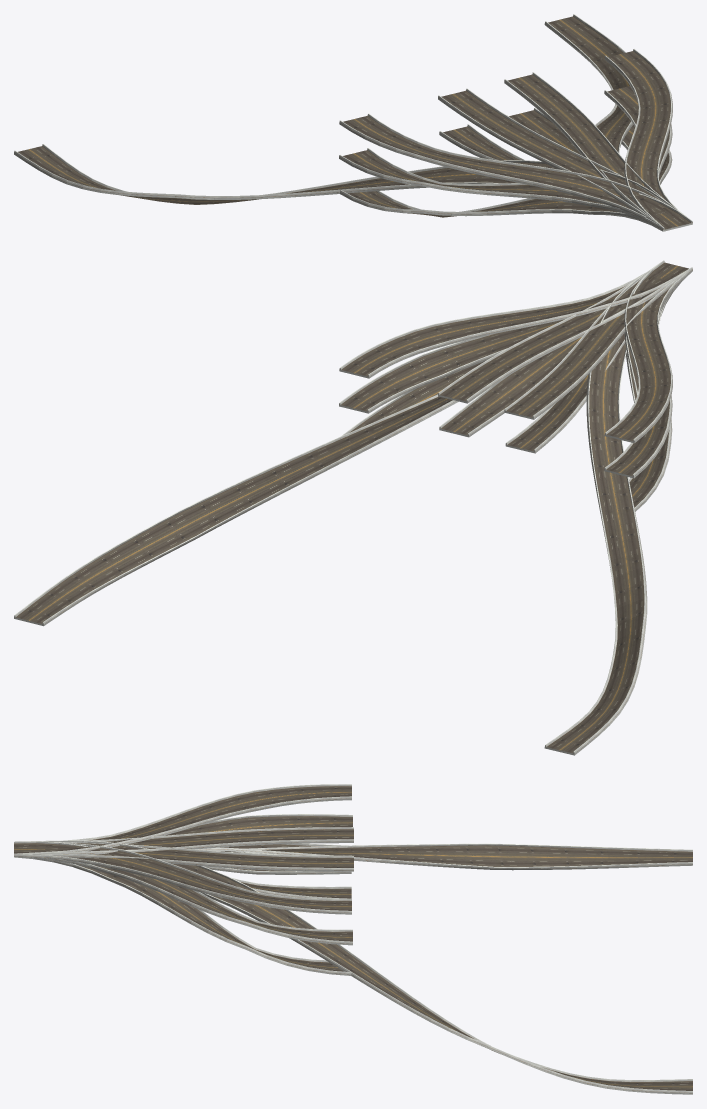
The model's file is trackCurves.fbx.
The picture shows the model from 3 angles, top to bottom: view 1: azimuth 30°, elevation 25°; view 2: azimuth 150°, elevation 25°; view 3: azimuth 270°, elevation 25°; orthographic projection. The views are drawn at different scales.
Visible parts, largest first — view 1: track_Ls30, track_Ls60down40, track_Rs30, track_Ls10, track_Rs10, track_Rs60down40, track_Ls30down10, track_Ls30down20, track_Ls10down10, track_Rs10down10, track_Rs30down10, track_Rs30down20; view 2: track_Rs60down40, track_Ls60down40, track_Rs30, track_Ls30, track_Rs30down10, track_Ls10, track_Rs10, track_Rs10down10, track_Ls10down10, track_Ls30down10, track_Ls30down20, track_Rs30down20; view 3: track_Ls60down40, track_Rs60down40, track_Rs30, track_Ls30, track_Rs10, track_Rs30down20, track_Ls10, track_Rs30down10, track_Ls30down10, track_Rs10down10, track_Ls10down10.
Part boxes in pixels (x1=…): track_Ls30: x1=339, y1=113, x2=670, y2=218; track_Ls60down40: x1=14, y1=144, x2=686, y2=221; track_Rs30: x1=604, y1=49, x2=677, y2=214; track_Ls10: x1=438, y1=88, x2=692, y2=231; track_Rs10: x1=504, y1=72, x2=692, y2=231; track_Rs60down40: x1=544, y1=14, x2=668, y2=225; track_Ls30down10: x1=339, y1=148, x2=685, y2=229; track_Ls30down20: x1=340, y1=190, x2=691, y2=231; track_Ls10down10: x1=439, y1=124, x2=692, y2=230; track_Rs10down10: x1=506, y1=108, x2=690, y2=229; track_Rs30down10: x1=604, y1=86, x2=672, y2=216; track_Rs30down20: x1=621, y1=124, x2=672, y2=229; track_Rs60down40: x1=14, y1=270, x2=688, y2=626; track_Ls60down40: x1=544, y1=264, x2=668, y2=755; track_Rs30: x1=339, y1=273, x2=671, y2=378; track_Ls30: x1=604, y1=274, x2=677, y2=443; track_Rs30down10: x1=339, y1=277, x2=676, y2=413; track_Ls10: x1=504, y1=264, x2=689, y2=419; track_Rs10: x1=438, y1=264, x2=677, y2=403; track_Rs10down10: x1=439, y1=337, x2=581, y2=437; track_Ls10down10: x1=505, y1=271, x2=649, y2=453; track_Ls30down10: x1=604, y1=267, x2=692, y2=478; track_Ls30down20: x1=626, y1=260, x2=692, y2=511; track_Rs30down20: x1=340, y1=267, x2=691, y2=439; track_Ls60down40: x1=20, y1=843, x2=692, y2=870; track_Rs60down40: x1=22, y1=840, x2=692, y2=1094; track_Rs30: x1=43, y1=842, x2=351, y2=914; track_Ls30: x1=45, y1=784, x2=351, y2=852; track_Rs10: x1=14, y1=842, x2=353, y2=871; track_Rs30down20: x1=14, y1=841, x2=351, y2=975; track_Ls10: x1=30, y1=827, x2=353, y2=852; track_Rs30down10: x1=14, y1=846, x2=352, y2=945; track_Ls30down10: x1=19, y1=814, x2=352, y2=853; track_Rs10down10: x1=57, y1=842, x2=351, y2=898; track_Ls10down10: x1=204, y1=852, x2=351, y2=874.
Bounding box in the file's own units: 16900 × 4233 × 20034.
